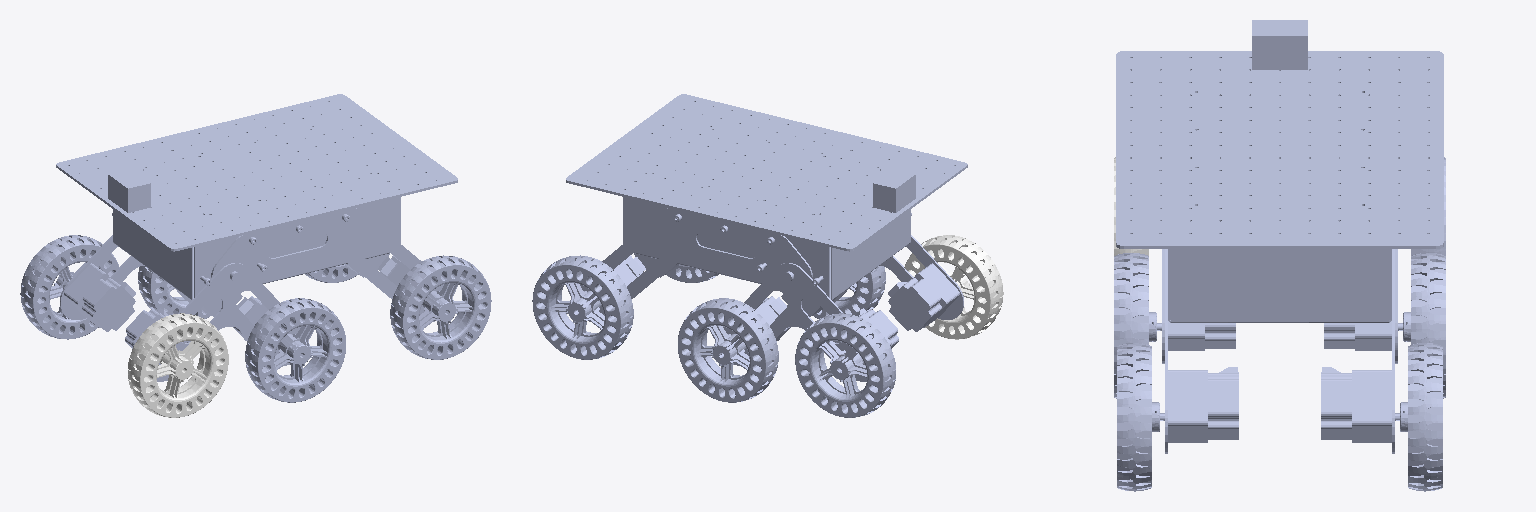
robot.urdf — wheel_car:
<?xml version="1.0" encoding="utf-8"?>
<!-- This URDF was automatically created by SolidWorks to URDF Exporter! Originally created by [author] ([email redacted]) 
     Commit Version: 1.6.0-4-g7f85cfe  Build Version: 1.6.7995.38578
     For more information, please see http://wiki.ros.org/sw_urdf_exporter -->
<robot
  name="wheel_car">
  <link
    name="base_link">
    <inertial>
      <origin
        xyz="-0.01728 3.5388E-16 -0.08612"
        rpy="0 0 0" />
      <mass
        value="6.7481" />
      <inertia
        ixx="0.046938"
        ixy="1.0272E-10"
        ixz="-0.0040015"
        iyy="0.10162"
        iyz="1.3602E-15"
        izz="0.13335" />
    </inertial>
    <visual>
      <origin
        xyz="0 0 0"
        rpy="0 0 0" />
      <geometry>
        <mesh
          filename="package://wheel_car/meshes/base_link.STL" />
      </geometry>
      <material
        name="">
        <color
          rgba="0.79216 0.81961 0.93333 1" />
      </material>
    </visual>
    <collision>
      <origin
        xyz="0 0 0"
        rpy="0 0 0" />
      <geometry>
        <mesh
          filename="package://wheel_car/meshes/base_link.STL" />
      </geometry>
    </collision>
  </link>
  <link
    name="fl_wheel">
    <inertial>
      <origin
        xyz="-4.4879E-06 -0.0003985 1.9095E-06"
        rpy="0 0 0" />
      <mass
        value="0.84844" />
      <inertia
        ixx="0.002621"
        ixy="7.06E-08"
        ixz="6.0218E-09"
        iyy="0.0049379"
        iyz="-6.8686E-09"
        izz="0.002621" />
    </inertial>
    <visual>
      <origin
        xyz="0 0 0"
        rpy="0 0 0" />
      <geometry>
        <mesh
          filename="package://wheel_car/meshes/fl_wheel.STL" />
      </geometry>
      <material
        name="">
        <color
          rgba="0.79216 0.81961 0.93333 1" />
      </material>
    </visual>
    <collision>
      <origin
        xyz="0 0 0"
        rpy="0 0 0" />
      <geometry>
        <mesh
          filename="package://wheel_car/meshes/fl_wheel.STL" />
      </geometry>
    </collision>
  </link>
  <joint
    name="fl_wheel_joint"
    type="continuous">
    <origin
      xyz="0.28208 0.1955 -0.18907"
      rpy="0 0 0" />
    <parent
      link="base_link" />
    <child
      link="fl_wheel" />
    <axis
      xyz="0 -1 0" />
  </joint>
  <link
    name="fr_wheel">
    <inertial>
      <origin
        xyz="-4.4876E-06 0.0003985 1.9094E-06"
        rpy="0 0 0" />
      <mass
        value="0.84844" />
      <inertia
        ixx="0.002621"
        ixy="-7.0685E-08"
        ixz="6.0214E-09"
        iyy="0.0049379"
        iyz="6.8804E-09"
        izz="0.002621" />
    </inertial>
    <visual>
      <origin
        xyz="0 0 0"
        rpy="0 0 0" />
      <geometry>
        <mesh
          filename="package://wheel_car/meshes/fr_wheel.STL" />
      </geometry>
      <material
        name="">
        <color
          rgba="0.79216 0.81961 0.93333 1" />
      </material>
    </visual>
    <collision>
      <origin
        xyz="0 0 0"
        rpy="0 0 0" />
      <geometry>
        <mesh
          filename="package://wheel_car/meshes/fr_wheel.STL" />
      </geometry>
    </collision>
  </link>
  <joint
    name="fr_wheel_joint"
    type="continuous">
    <origin
      xyz="0.28208 -0.1955 -0.18907"
      rpy="0 0 0" />
    <parent
      link="base_link" />
    <child
      link="fr_wheel" />
    <axis
      xyz="0 -1 0" />
  </joint>
  <link
    name="ml_wheel">
    <inertial>
      <origin
        xyz="-4.2885E-06 0.0036015 2.323E-06"
        rpy="0 0 0" />
      <mass
        value="0.84844" />
      <inertia
        ixx="0.002621"
        ixy="6.9642E-08"
        ixz="5.8866E-09"
        iyy="0.0049379"
        iyz="-1.3475E-08"
        izz="0.002621" />
    </inertial>
    <visual>
      <origin
        xyz="0 0 0"
        rpy="0 0 0" />
      <geometry>
        <mesh
          filename="package://wheel_car/meshes/ml_wheel.STL" />
      </geometry>
      <material
        name="">
        <color
          rgba="0.79216 0.81961 0.93333 1" />
      </material>
    </visual>
    <collision>
      <origin
        xyz="0 0 0"
        rpy="0 0 0" />
      <geometry>
        <mesh
          filename="package://wheel_car/meshes/ml_wheel.STL" />
      </geometry>
    </collision>
  </link>
  <joint
    name="ml_wheel_joint"
    type="continuous">
    <origin
      xyz="-0.032237 0.1955 -0.20203"
      rpy="0 0 0" />
    <parent
      link="base_link" />
    <child
      link="ml_wheel" />
    <axis
      xyz="0 -1 0" />
  </joint>
  <link
    name="mr_wheel">
    <inertial>
      <origin
        xyz="-4.2882E-06 -0.0036015 2.3228E-06"
        rpy="0 0 0" />
      <mass
        value="0.84844" />
      <inertia
        ixx="0.002621"
        ixy="-6.9725E-08"
        ixz="5.8864E-09"
        iyy="0.0049379"
        iyz="1.3494E-08"
        izz="0.002621" />
    </inertial>
    <visual>
      <origin
        xyz="0 0 0"
        rpy="0 0 0" />
      <geometry>
        <mesh
          filename="package://wheel_car/meshes/mr_wheel.STL" />
      </geometry>
      <material
        name="">
        <color
          rgba="0.79216 0.81961 0.93333 1" />
      </material>
    </visual>
    <collision>
      <origin
        xyz="0 0 0"
        rpy="0 0 0" />
      <geometry>
        <mesh
          filename="package://wheel_car/meshes/mr_wheel.STL" />
      </geometry>
    </collision>
  </link>
  <joint
    name="mr_wheel_joint"
    type="continuous">
    <origin
      xyz="-0.032237 -0.1955 -0.20203"
      rpy="0 0 0" />
    <parent
      link="base_link" />
    <child
      link="mr_wheel" />
    <axis
      xyz="0 -1 0" />
  </joint>
  <link
    name="rl_wheel">
    <inertial>
      <origin
        xyz="2.323E-06 0.0036015 4.2885E-06"
        rpy="0 0 0" />
      <mass
        value="0.84844" />
      <inertia
        ixx="0.002621"
        ixy="-1.3475E-08"
        ixz="-5.8866E-09"
        iyy="0.0049379"
        iyz="-6.9642E-08"
        izz="0.002621" />
    </inertial>
    <visual>
      <origin
        xyz="0 0 0"
        rpy="0 0 0" />
      <geometry>
        <mesh
          filename="package://wheel_car/meshes/rl_wheel.STL" />
      </geometry>
      <material
        name="">
        <color
          rgba="0.79216 0.81961 0.93333 1" />
      </material>
    </visual>
    <collision>
      <origin
        xyz="0 0 0"
        rpy="0 0 0" />
      <geometry>
        <mesh
          filename="package://wheel_car/meshes/rl_wheel.STL" />
      </geometry>
    </collision>
  </link>
  <joint
    name="rl_wheel_joint"
    type="continuous">
    <origin
      xyz="-0.28527 0.1955 -0.17424"
      rpy="0 0 0" />
    <parent
      link="base_link" />
    <child
      link="rl_wheel" />
    <axis
      xyz="0 -1 0" />
  </joint>
  <link
    name="rr_wheel">
    <inertial>
      <origin
        xyz="0 0 0"
        rpy="0 0 0" />
      <mass
        value="0" />
      <inertia
        ixx="0"
        ixy="0"
        ixz="0"
        iyy="0"
        iyz="0"
        izz="0" />
    </inertial>
    <visual>
      <origin
        xyz="0 0 0"
        rpy="0 0 0" />
      <geometry>
        <mesh
          filename="package://wheel_car/meshes/rr_wheel.STL" />
      </geometry>
      <material
        name="">
        <color
          rgba="1 1 1 1" />
      </material>
    </visual>
    <collision>
      <origin
        xyz="0 0 0"
        rpy="0 0 0" />
      <geometry>
        <mesh
          filename="package://wheel_car/meshes/rr_wheel.STL" />
      </geometry>
    </collision>
  </link>
  <joint
    name="rr_wheel_joint"
    type="continuous">
    <origin
      xyz="-0.28527 -0.1955 -0.17424"
      rpy="0 0 0" />
    <parent
      link="base_link" />
    <child
      link="rr_wheel" />
    <axis
      xyz="0 -1 0" />
  </joint>
</robot>

--- Render facts (derived) ---
The picture shows the robot from 3 angles, left to right: view 1: azimuth 30°, elevation 25°; view 2: azimuth 150°, elevation 25°; view 3: azimuth 270°, elevation 25°; orthographic projection.
Robot: wheel_car — 7 links, 6 joints (6 continuous); root link base_link; default pose: all joints at 0.
Visible links, largest first — view 1: base_link, mr_wheel, fr_wheel, rr_wheel, rl_wheel, ml_wheel, fl_wheel; view 2: base_link, ml_wheel, fl_wheel, rl_wheel, rr_wheel, mr_wheel, fr_wheel; view 3: base_link, fl_wheel, fr_wheel, ml_wheel, mr_wheel.
Boxes of the visible links, box(x1,y1,x2,y2) form: base_link: box(56, 94, 457, 381); mr_wheel: box(245, 298, 345, 402); fr_wheel: box(390, 255, 491, 359); rr_wheel: box(128, 313, 228, 417); rl_wheel: box(20, 235, 119, 339); ml_wheel: box(138, 266, 210, 318); fl_wheel: box(305, 264, 358, 282); base_link: box(566, 94, 967, 381); ml_wheel: box(678, 298, 778, 402); fl_wheel: box(532, 255, 633, 359); rl_wheel: box(795, 313, 895, 417); rr_wheel: box(904, 235, 1003, 339); mr_wheel: box(813, 266, 885, 318); fr_wheel: box(665, 264, 718, 282); base_link: box(1116, 20, 1443, 453); fl_wheel: box(1400, 343, 1442, 491); fr_wheel: box(1117, 343, 1159, 491); ml_wheel: box(1403, 253, 1445, 398); mr_wheel: box(1114, 253, 1156, 398).
Size in the robot's own frame: 0.7673 by 0.447 by 0.4295 metres.
Meshes: 7 distinct files referenced, 7 mesh visuals loaded (7 binary STL).